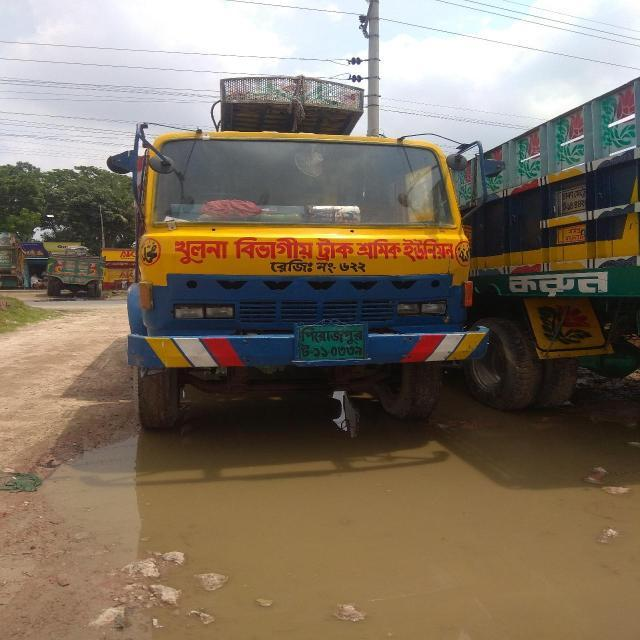numberplate: (293, 321, 368, 362)
